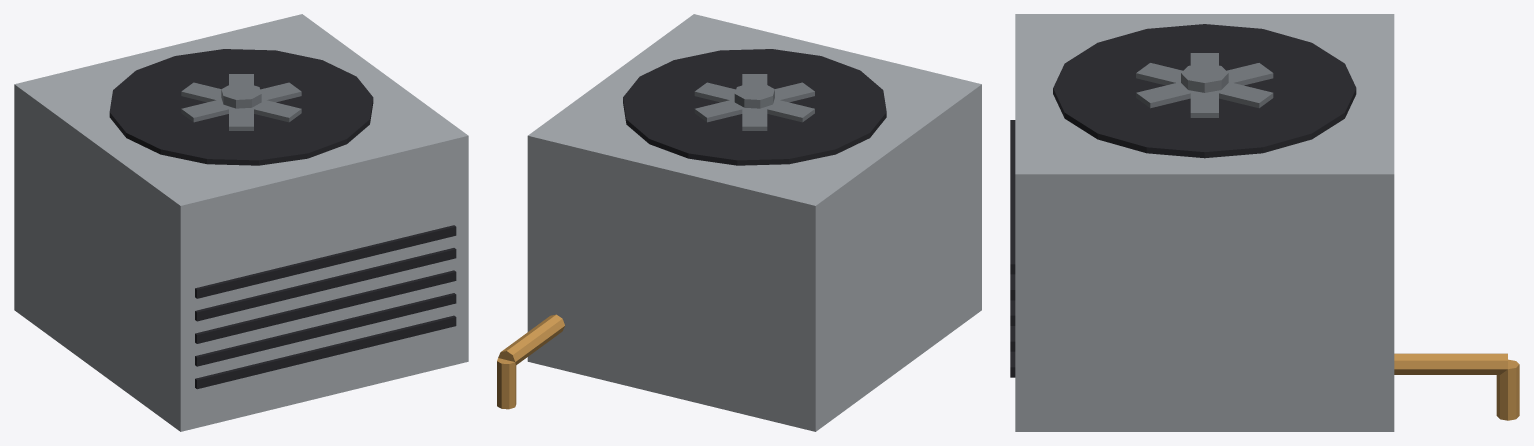
Rendered from ACUnit.fbx.
The picture shows the model from 3 angles, left to right: view 1: azimuth 30°, elevation 25°; view 2: azimuth 150°, elevation 25°; view 3: azimuth 270°, elevation 25°; orthographic projection. The views are drawn at different scales.
Visible parts, largest first — view 1: Casing, Grille, Fan; view 2: Casing, Grille, Fan, Pipes; view 3: Casing, Grille, Fan, Pipes.
Boxes of the visible parts, x1,y1,x2,y2 form: Casing: [14, 14, 468, 431]; Grille: [109, 49, 456, 389]; Fan: [181, 74, 301, 130]; Casing: [527, 14, 981, 431]; Grille: [623, 49, 886, 165]; Fan: [694, 74, 814, 130]; Pipes: [497, 314, 564, 409]; Casing: [1015, 14, 1394, 431]; Grille: [1010, 24, 1356, 377]; Fan: [1136, 53, 1273, 117]; Pipes: [1394, 353, 1519, 420].
Bounding box in the file's own units: 4 × 3.25 × 5.37.
